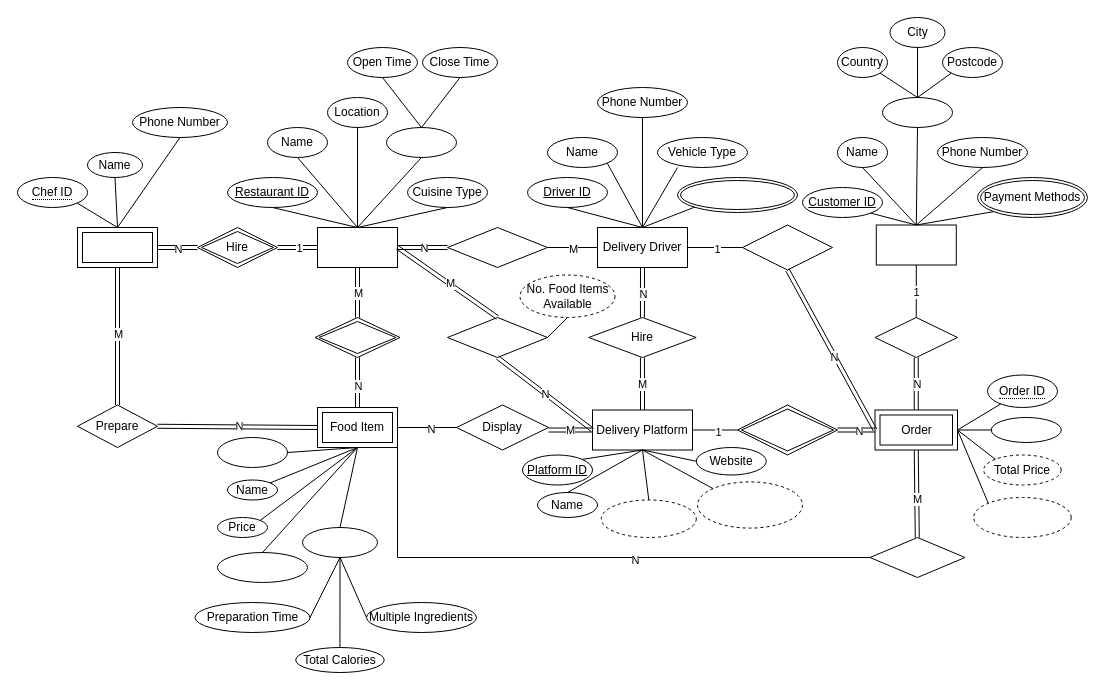
Some shapes in this 1105 by 690 pixel diagram are drawn without their labels. Each missing label, with the centre of its shape:
"Address" belongs at point (917, 112).
"Available Status" belongs at point (262, 567).
"Chef" belongs at point (117, 247).
"Co-Work" belongs at point (497, 337).
"Contain" belongs at point (917, 557).
"Customer" belongs at point (915, 244).
"Deliver" belongs at point (787, 247).
"Description" belongs at point (340, 542).
"Food ID" belongs at point (252, 452).
"Have" belongs at point (787, 429).
"No. Delivery Drivers Hired" belongs at point (648, 518).
"No. Food Items Contained" belongs at point (1022, 517).
"No. Restaurants Co-worked" belongs at point (749, 504).
"Offer" belongs at point (357, 337).
"Open Hour" belongs at point (421, 142).
"Place" belongs at point (916, 337).
"Restaurant" belongs at point (357, 247).
"Serve" belongs at point (497, 247).
"Spoken Languages" belongs at point (737, 194).
"Timestamp" belongs at point (1025, 429).
